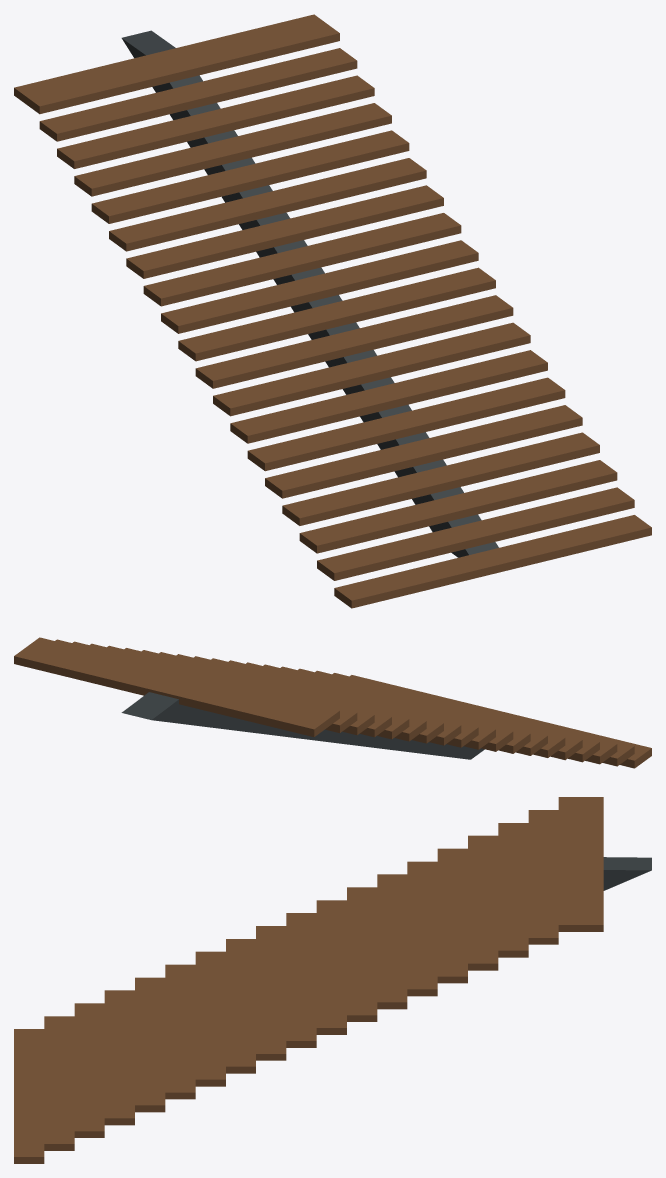
Rendered from Stairs.fbx.
3 views of the same model, one above another, from view 1: azimuth 30°, elevation 25°; view 2: azimuth 150°, elevation 25°; view 3: azimuth 270°, elevation 25° (orthographic). The views are drawn at different scales.
Parts seen in each view (by area): view 1: Escalera sentido A; view 2: Escalera sentido A; view 3: Escalera sentido A.
Part boxes in pixels (box(x1,y1,x2,y2)): Escalera sentido A: box(14, 14, 651, 608); Escalera sentido A: box(14, 637, 651, 768); Escalera sentido A: box(14, 797, 651, 1163).
Bounding box in the file's own units: 400 × 352 × 843.
